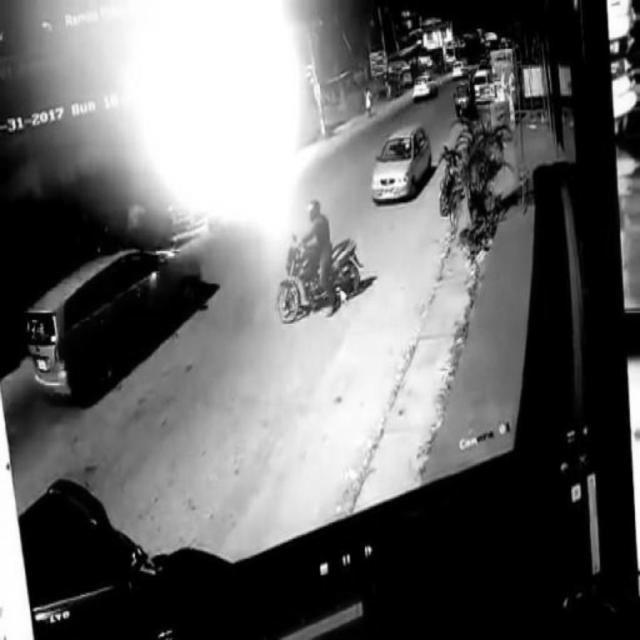vehicle: (23, 242, 200, 398), (276, 202, 364, 312), (371, 130, 433, 201)
